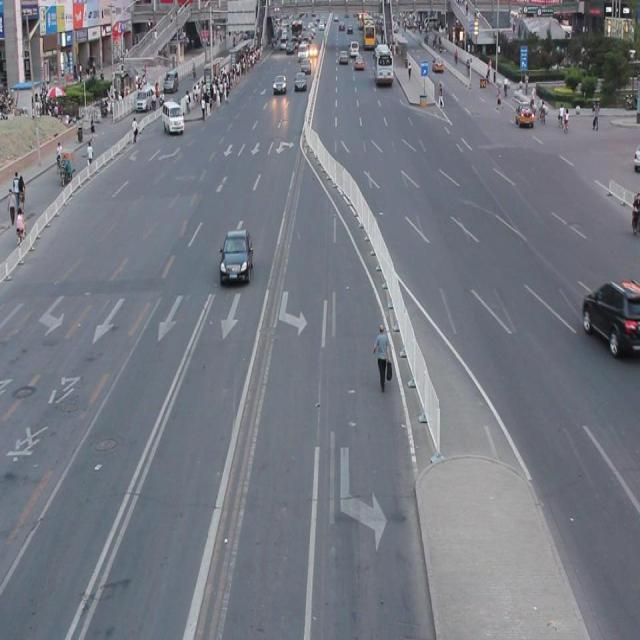car: (580, 278, 640, 354), (219, 227, 253, 285)
